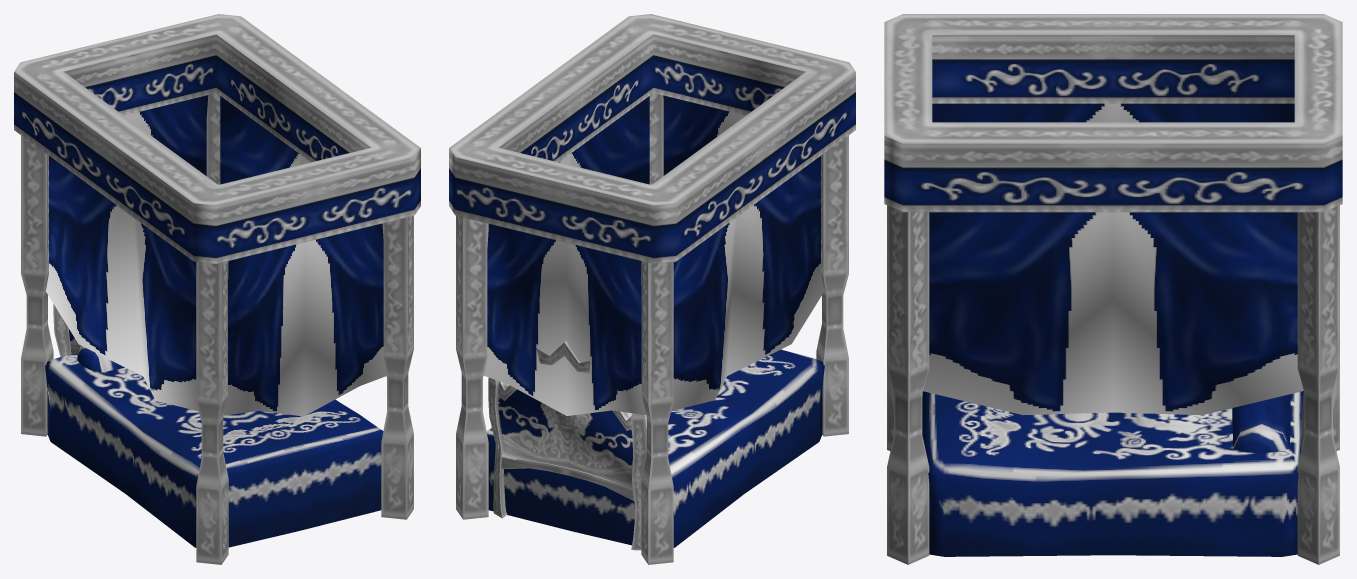
File: EmpressCanopyBed_HD.fbx
3 renders of one model, left to right at view 1: azimuth 30°, elevation 25°; view 2: azimuth 150°, elevation 25°; view 3: azimuth 270°, elevation 25°, orthographic. The views are drawn at different scales.
Visible parts, largest first — view 1: EmpressCanopyBed; view 2: EmpressCanopyBed; view 3: EmpressCanopyBed.
Boxes of the visible parts, x1=… form: EmpressCanopyBed: x1=14, y1=14, x2=420, y2=564; EmpressCanopyBed: x1=449, y1=14, x2=855, y2=564; EmpressCanopyBed: x1=884, y1=14, x2=1342, y2=564.
Bounding box in the file's own units: 1.93 × 2.94 × 2.88.
